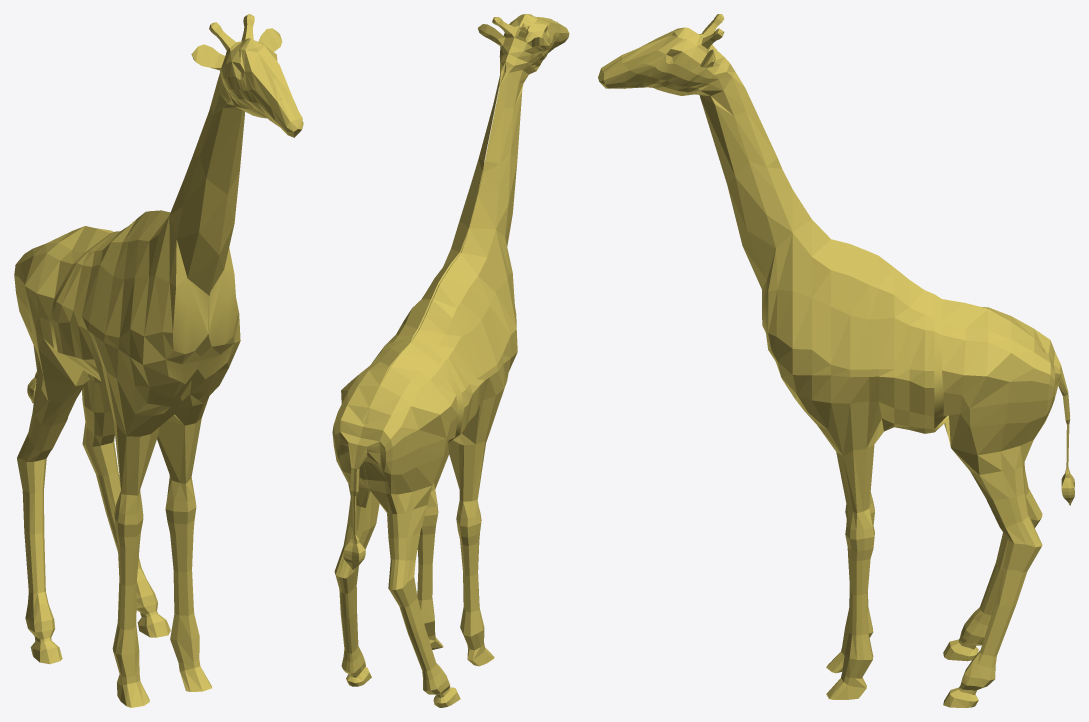
Rendered from giraffeD.gltf.
3 views of the same model, side by side, from view 1: azimuth 30°, elevation 25°; view 2: azimuth 150°, elevation 25°; view 3: azimuth 270°, elevation 25° (orthographic). The views are drawn at different scales.
Visible parts, largest first — view 1: Box001; view 2: Box001; view 3: Box001.
Boxes of the visible parts, x1,y1,x2,y2 form: Box001: (14,14,303,707); Box001: (332,14,569,707); Box001: (598,14,1074,707).
Size of the model in its own units: 28.36 by 150 by 98.05.
